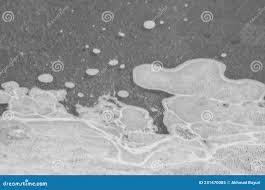Wet-floor: (0, 59, 265, 174), (3, 41, 146, 175), (134, 42, 265, 178)
